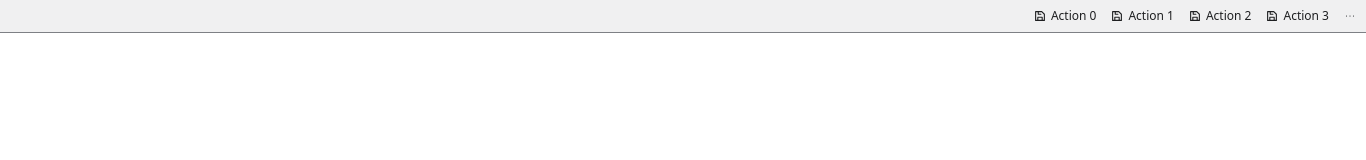
Test case: ContextBar — overflow › closes the overflow menu and executes the command when a menu item is chosen
Click the button named "More actions". click: (1350, 16)
box: [1338,4,1362,28]
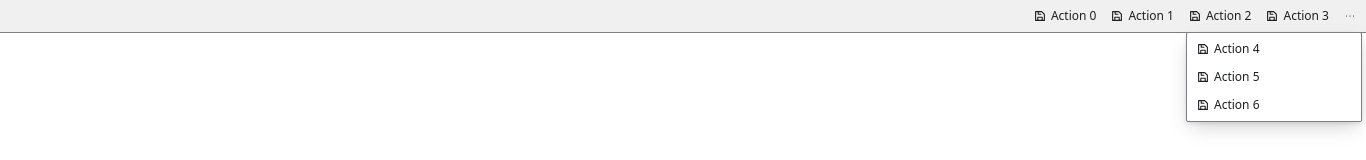
Click the menu item "Action 6". click: (1228, 104)
box: [1196,96,1260,113]
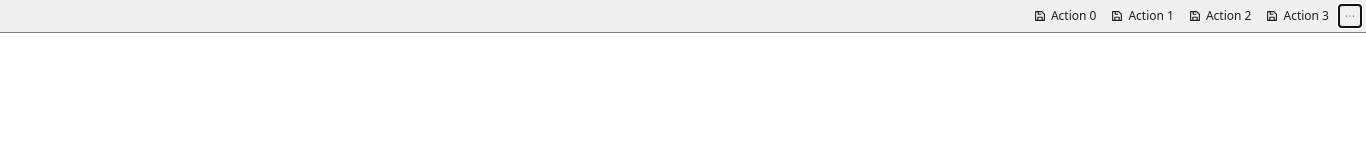
Expected: the menu is gone
